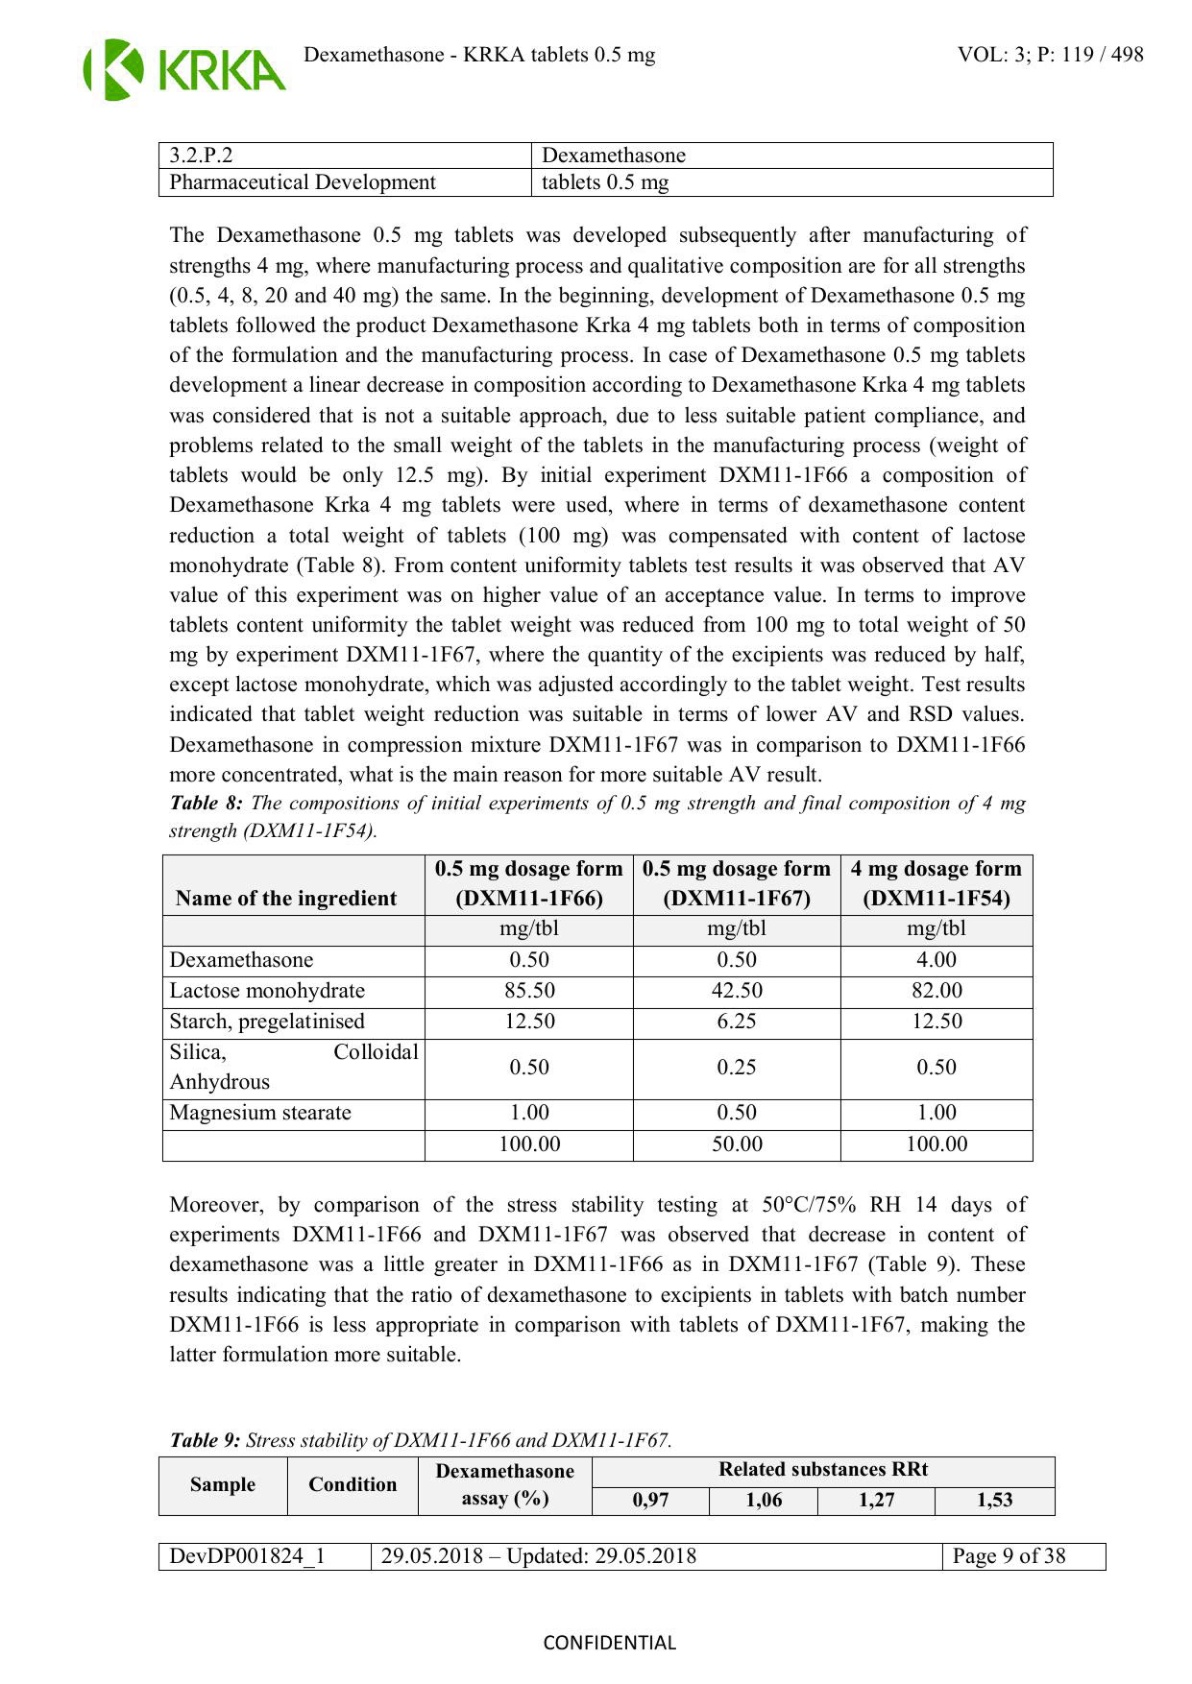full_lined: (160, 852, 1035, 1163), (156, 141, 1055, 199), (157, 1541, 1108, 1572)
merged_cells: (156, 1454, 1057, 1516)
